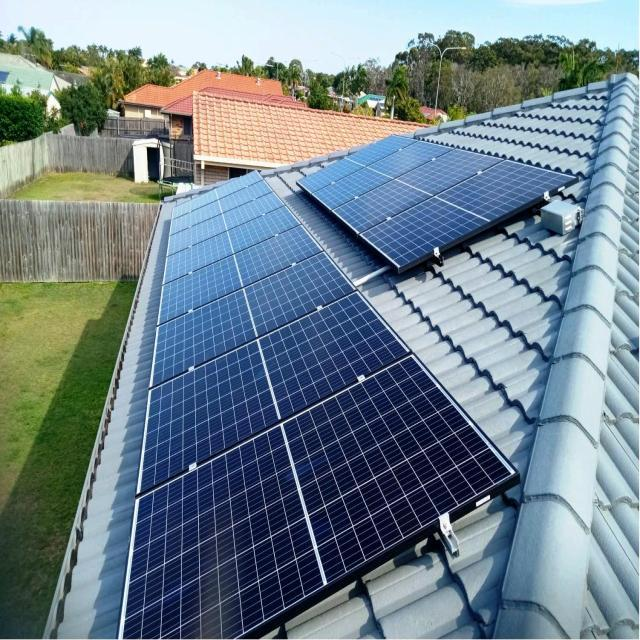no faulty: (284, 352, 514, 592), (122, 425, 324, 640), (299, 134, 577, 268), (162, 181, 337, 381), (258, 291, 414, 433), (136, 341, 280, 482)
